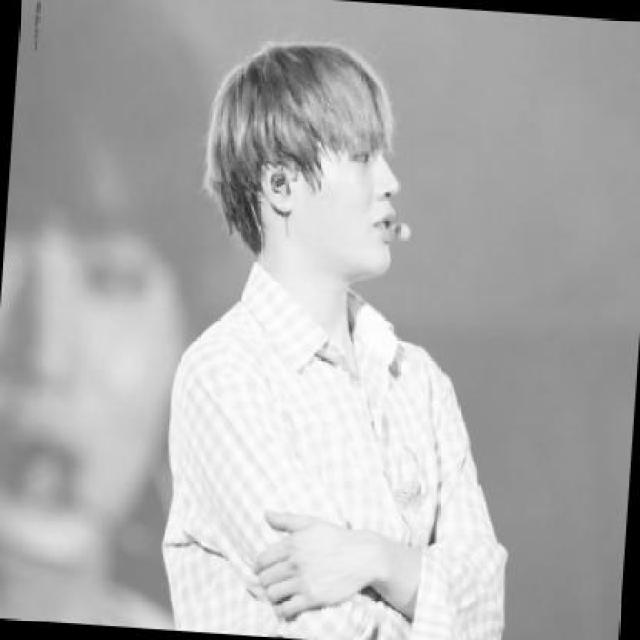earphone: (271, 168, 299, 202)
